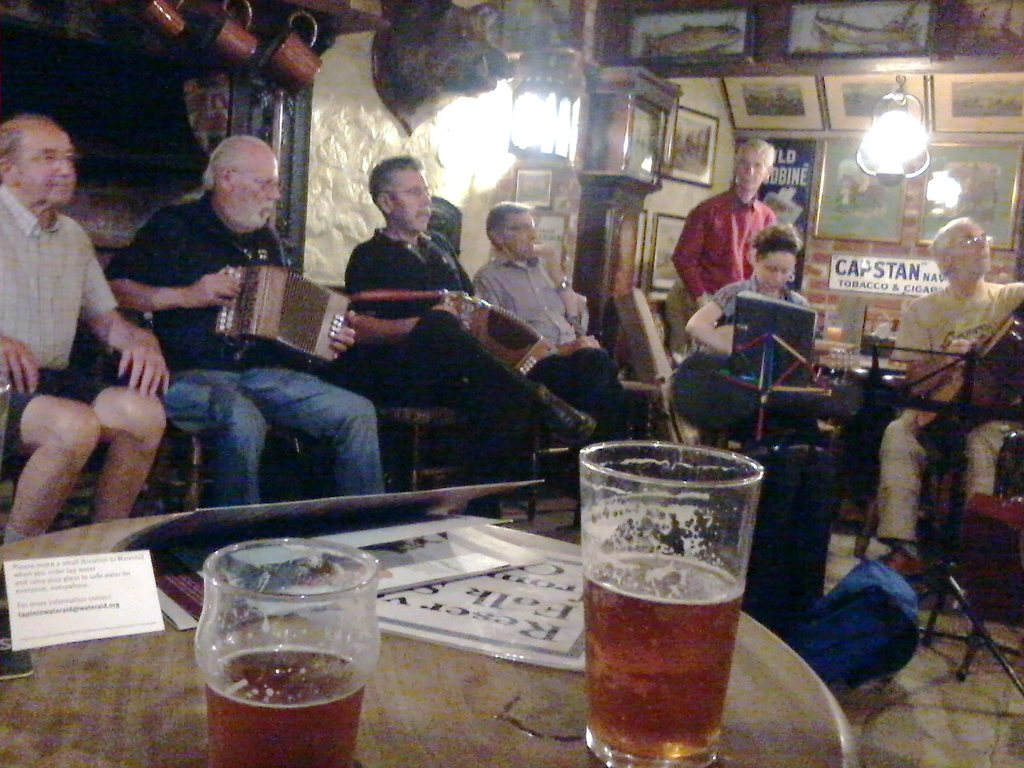Beer: (585, 555, 741, 764), (216, 650, 367, 761)
